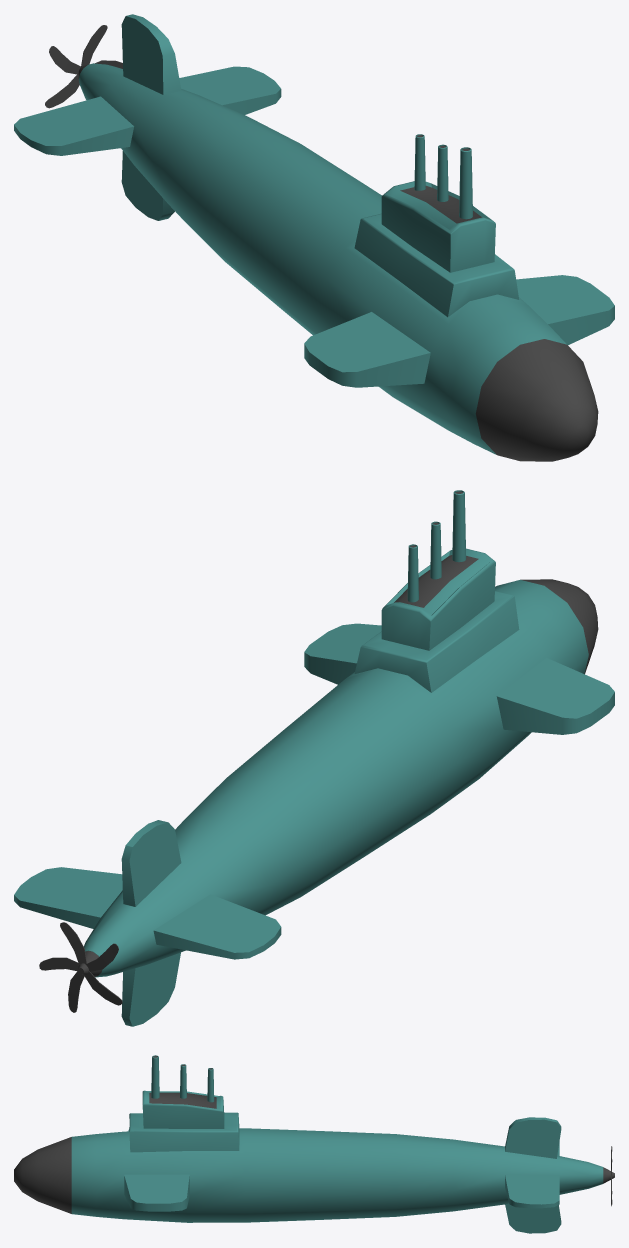
File: Submarine_2.fbx
The picture shows the model from 3 angles, top to bottom: view 1: azimuth 30°, elevation 25°; view 2: azimuth 150°, elevation 25°; view 3: azimuth 270°, elevation 25°; orthographic projection. The views are drawn at different scales.
Parts seen in each view (by area): view 1: Submarine_2, Submarine_2 Fan; view 2: Submarine_2, Submarine_2 Fan; view 3: Submarine_2.
Boxes of the visible parts, bbox=[...] form: Submarine_2: bbox=[14, 14, 614, 461]; Submarine_2 Fan: bbox=[45, 25, 122, 108]; Submarine_2: bbox=[14, 490, 614, 1026]; Submarine_2 Fan: bbox=[39, 922, 122, 1012]; Submarine_2: bbox=[14, 1055, 603, 1233].
Size of the model in its own units: 0.3331 by 0.332 by 1.02.
